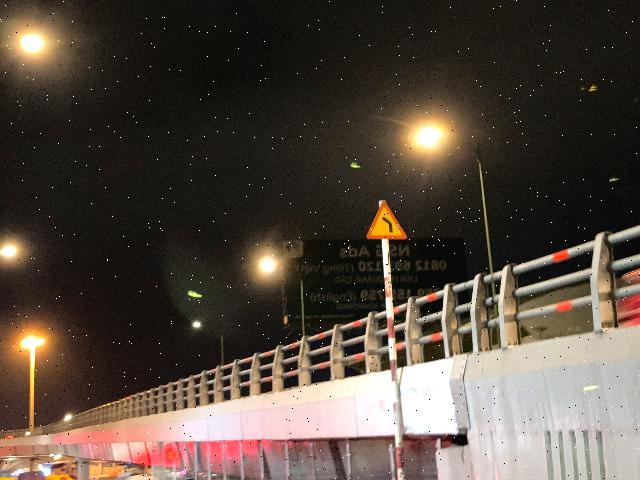cho-ngoat-nguy-hiem-ben-phai: (366, 198, 408, 240)
